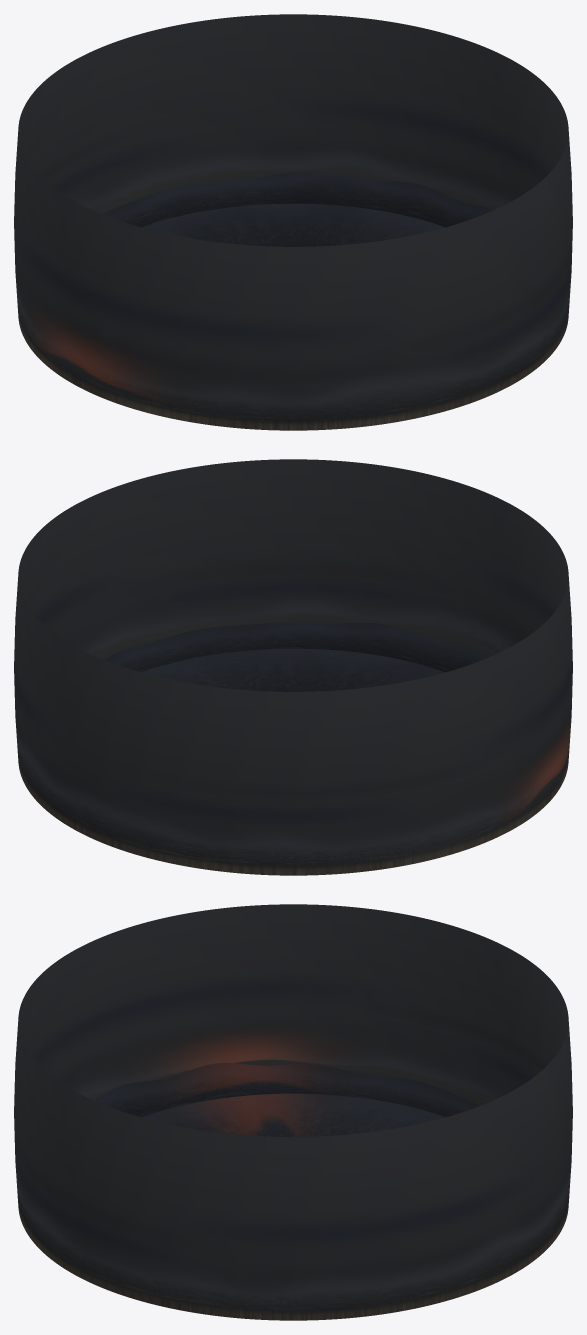
Rendered from blackout-ridge-panorama.glb.
3 renders of one model, top to bottom at view 1: azimuth 30°, elevation 25°; view 2: azimuth 150°, elevation 25°; view 3: azimuth 270°, elevation 25°, orthographic.
Parts seen in each view (by area): view 1: BlackoutRidgePanorama; view 2: BlackoutRidgePanorama; view 3: BlackoutRidgePanorama.
Part boxes in pixels (box(x1,y1,x2,y2)): BlackoutRidgePanorama: box(14, 14, 572, 430); BlackoutRidgePanorama: box(14, 459, 572, 875); BlackoutRidgePanorama: box(14, 904, 572, 1320).
Bounding box in the file's own units: 386 × 140 × 386.
Materials: 1 (1 with a texture image).
